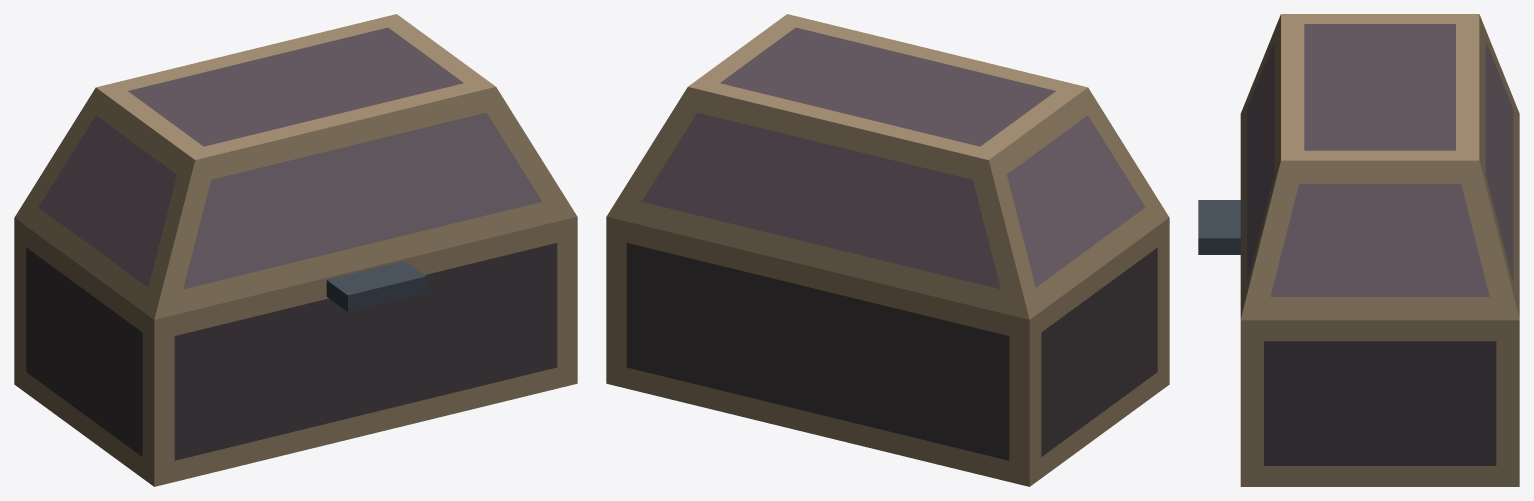
The model's file is TB_D_Prop_ChestA_C.FBX.
3 views of the same model, side by side, from view 1: azimuth 30°, elevation 25°; view 2: azimuth 150°, elevation 25°; view 3: azimuth 270°, elevation 25° (orthographic).
Parts seen in each view (by area): view 1: TB_D_Prop_ChestA_C; view 2: TB_D_Prop_ChestA_C; view 3: TB_D_Prop_ChestA_C.
Part boxes in pixels (box(x1,y1,x2,y2)): TB_D_Prop_ChestA_C: box(14, 14, 577, 486); TB_D_Prop_ChestA_C: box(606, 14, 1169, 486); TB_D_Prop_ChestA_C: box(1198, 14, 1519, 486).
Bounding box in the file's own units: 1.05 × 0.7016 × 0.6895.
